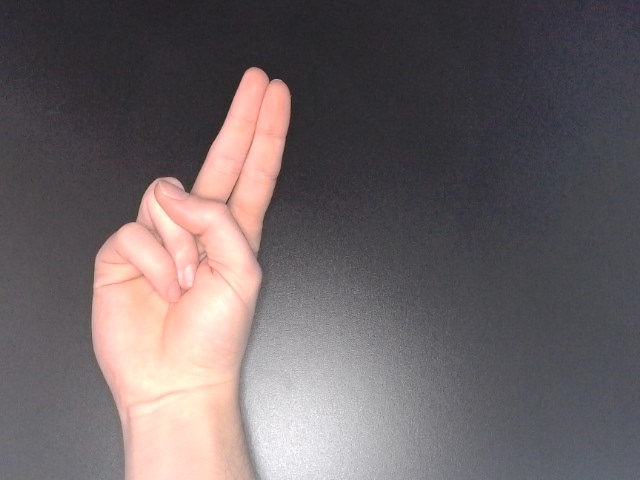u: (84, 59, 294, 443)
